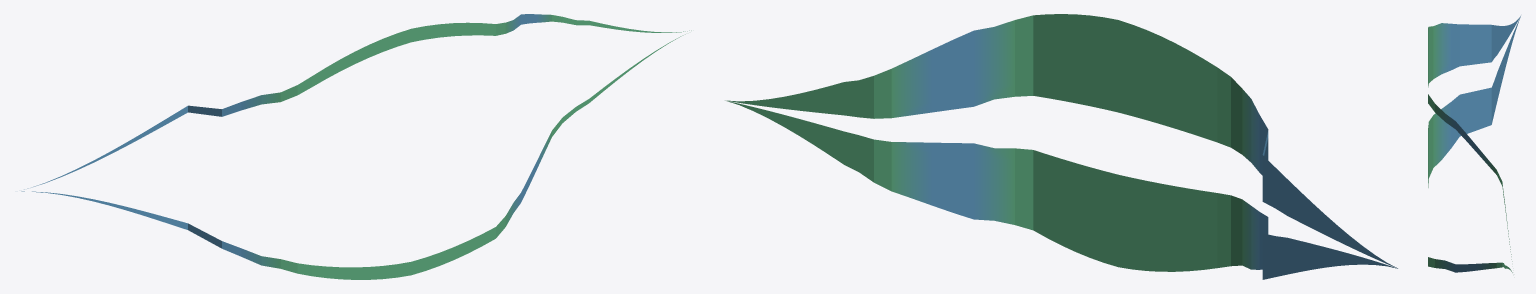
File: D2_car_three_zone.glb
3 renders of one model, left to right at view 1: azimuth 30°, elevation 25°; view 2: azimuth 150°, elevation 25°; view 3: azimuth 270°, elevation 25°, orthographic. The views are drawn at different scales.
Visible parts, largest first — view 1: world; view 2: world; view 3: world.
Part boxes in pixels (x1,y1,x2,y2): world: (21, 14, 691, 279); world: (725, 14, 1397, 279); world: (1428, 16, 1520, 272).
Bounding box in the file's own units: 4.7 × 1.63 × 0.7.
